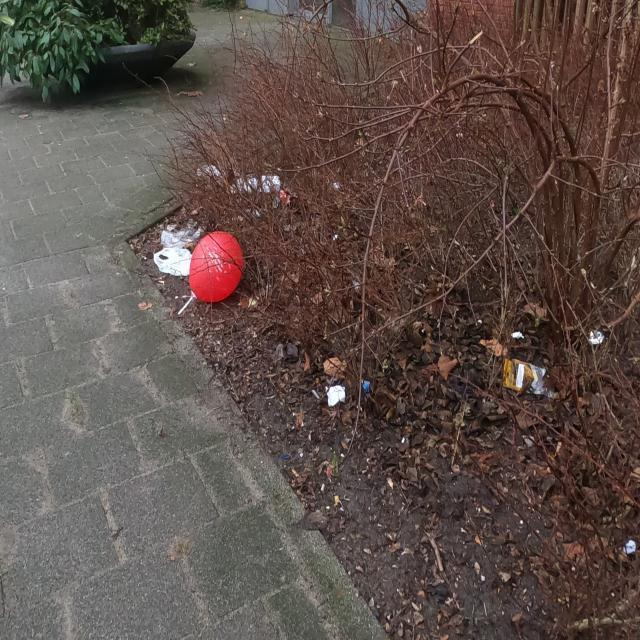Can-Metal: (272, 188, 296, 210)
Paper: (502, 358, 559, 398), (160, 218, 206, 248), (154, 246, 192, 276), (326, 383, 346, 408)
